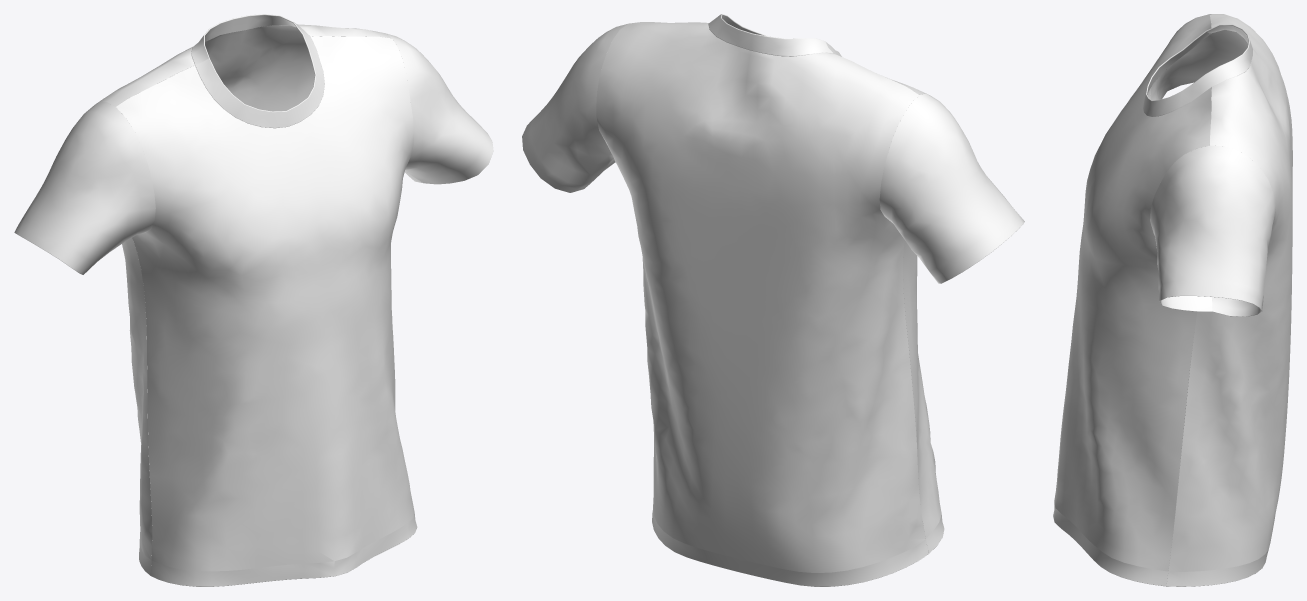
File: tee.glb
3 views of the same model, side by side, from view 1: azimuth 30°, elevation 25°; view 2: azimuth 150°, elevation 25°; view 3: azimuth 270°, elevation 25° (orthographic). The views are drawn at different scales.
Parts seen in each view (by area): view 1: Cloth; view 2: Cloth; view 3: Cloth.
Part boxes in pixels (x1=…): Cloth: x1=14, y1=14, x2=493, y2=586; Cloth: x1=522, y1=14, x2=1024, y2=586; Cloth: x1=1053, y1=14, x2=1292, y2=586.
Bounding box in the file's own units: 65.19 × 69.59 × 30.47.
Materials: 2 (2 with a texture image).
